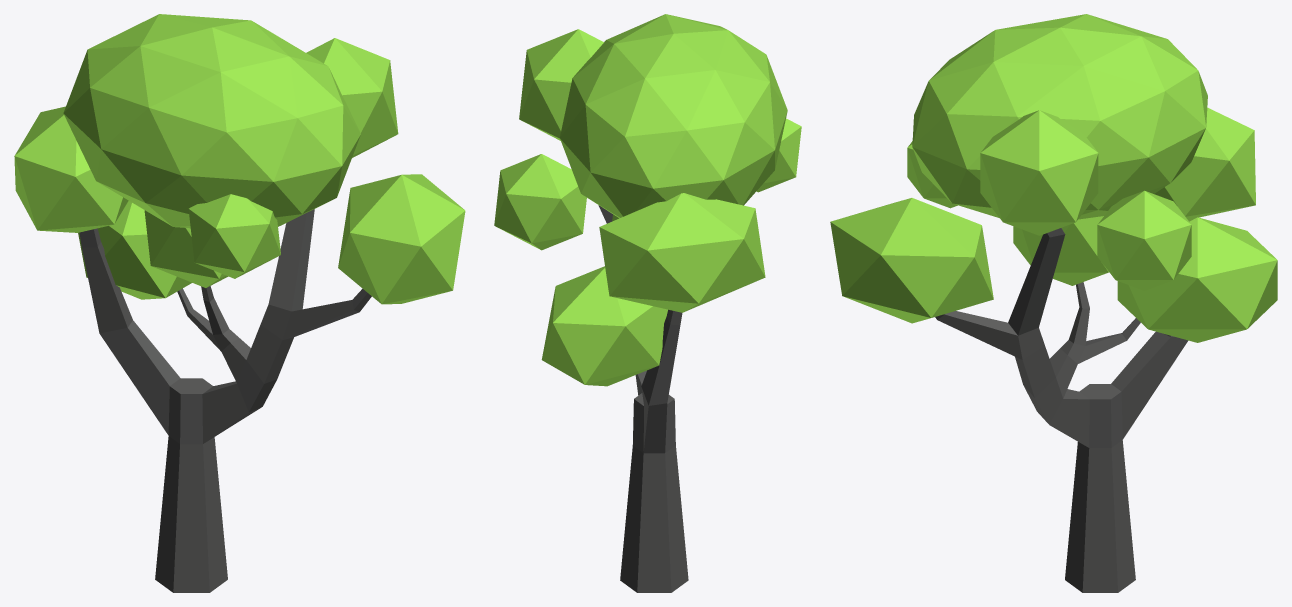
The model's file is Tree4.fbx.
The picture shows the model from 3 angles, left to right: view 1: azimuth 30°, elevation 25°; view 2: azimuth 150°, elevation 25°; view 3: azimuth 270°, elevation 25°; orthographic projection. The views are drawn at different scales.
Parts seen in each view (by area): view 1: Icosphere.004, Cylinder, Icosphere, Icosphere.001, Icosphere.016, Icosphere.005, Icosphere.003, Icosphere.002; view 2: Icosphere.004, Icosphere.001, Cylinder, Icosphere.003, Icosphere.006, Icosphere.005, Icosphere.016; view 3: Icosphere.004, Cylinder, Icosphere, Icosphere.003, Icosphere.005, Icosphere.006, Icosphere.001, Icosphere.002, Icosphere.016.
Part boxes in pixels (x1=…): Icosphere.004: x1=63, y1=14, x2=360, y2=228; Cylinder: x1=79, y1=209, x2=371, y2=592; Icosphere: x1=338, y1=174, x2=465, y2=304; Icosphere.001: x1=14, y1=106, x2=128, y2=232; Icosphere.016: x1=188, y1=194, x2=280, y2=278; Icosphere.005: x1=306, y1=38, x2=398, y2=157; Icosphere.003: x1=78, y1=201, x2=191, y2=299; Icosphere.002: x1=144, y1=210, x2=228, y2=287; Icosphere.004: x1=560, y1=14, x2=787, y2=218; Icosphere.001: x1=599, y1=193, x2=765, y2=312; Cylinder: x1=598, y1=205, x2=688, y2=592; Icosphere.003: x1=541, y1=266, x2=667, y2=386; Icosphere.006: x1=494, y1=154, x2=586, y2=250; Icosphere.005: x1=519, y1=29, x2=603, y2=140; Icosphere.016: x1=756, y1=118, x2=801, y2=192; Icosphere.004: x1=912, y1=14, x2=1207, y2=219; Cylinder: x1=935, y1=228, x2=1188, y2=592; Icosphere: x1=830, y1=198, x2=993, y2=323; Icosphere.003: x1=1117, y1=217, x2=1277, y2=342; Icosphere.005: x1=980, y1=110, x2=1098, y2=235; Icosphere.006: x1=1097, y1=190, x2=1191, y2=290; Icosphere.001: x1=1154, y1=107, x2=1255, y2=219; Icosphere.002: x1=1013, y1=216, x2=1108, y2=285; Icosphere.016: x1=907, y1=141, x2=957, y2=208.
Bounding box in the file's own units: 2664 × 4635 × 3403.
